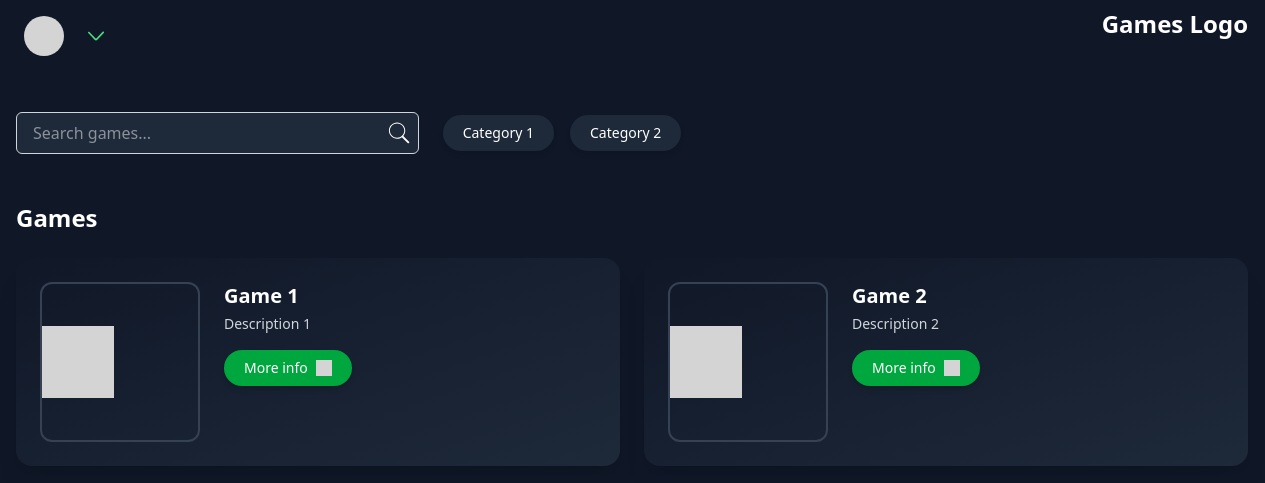
Test case: Games Component › should filter games based on selected category
Expected: the heading "Game 1" is shown, [224,282,299,309]
Expected: the heading "Game 2" is shown, [852,282,927,309]
Click the heading with test id "category-Category 1" at (498, 133), box [443,115,554,151]
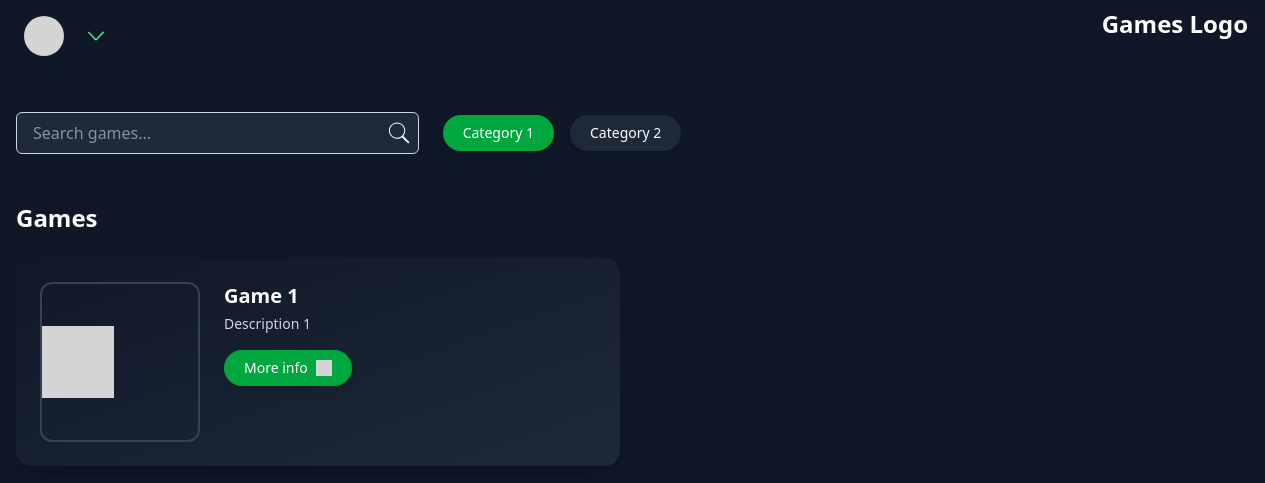
Expected: the heading "Game 1" is shown, [224,282,299,309]
Now the heading with test id "game-title-game2" is gone
